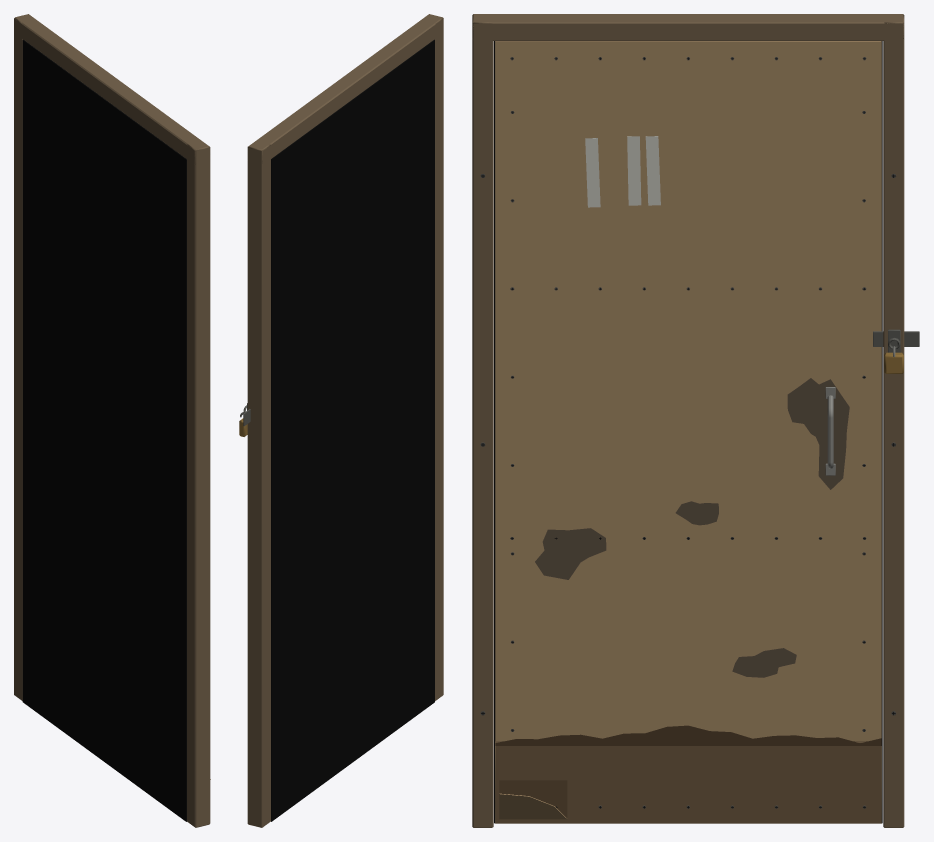
The model's file is door_plywood.glb.
3 renders of one model, left to right at view 1: azimuth 30°, elevation 25°; view 2: azimuth 150°, elevation 25°; view 3: azimuth 270°, elevation 25°, orthographic. The views are drawn at different scales.
Visible parts, largest first — view 1: tuer_sperrholz2, tuer_sperrholz0; view 2: tuer_sperrholz2, tuer_sperrholz0; view 3: tuer_sperrholz3, tuer_sperrholz0, tuer_sperrholz4, tuer_sperrholz12, tuer_sperrholz7, tuer_sperrholz11, tuer_sperrholz2, tuer_sperrholz5, tuer_sperrholz6.
Part boxes in pixels (box(x1,y1,x2,y2)): tuer_sperrholz2: box(22, 39, 186, 821); tuer_sperrholz0: box(14, 14, 210, 827); tuer_sperrholz2: box(271, 39, 434, 821); tuer_sperrholz0: box(247, 14, 443, 827); tuer_sperrholz3: box(495, 41, 881, 819); tuer_sperrholz0: box(472, 14, 904, 827); tuer_sperrholz4: box(495, 741, 881, 823); tuer_sperrholz12: box(535, 378, 849, 677); tuer_sperrholz7: box(495, 725, 881, 745); tuer_sperrholz11: box(585, 136, 660, 207); tuer_sperrholz2: box(481, 41, 895, 823); tuer_sperrholz5: box(495, 41, 881, 823); tuer_sperrholz6: box(499, 780, 567, 818).
Size of the model in its own units: 0.09 by 2.1 by 1.06.
